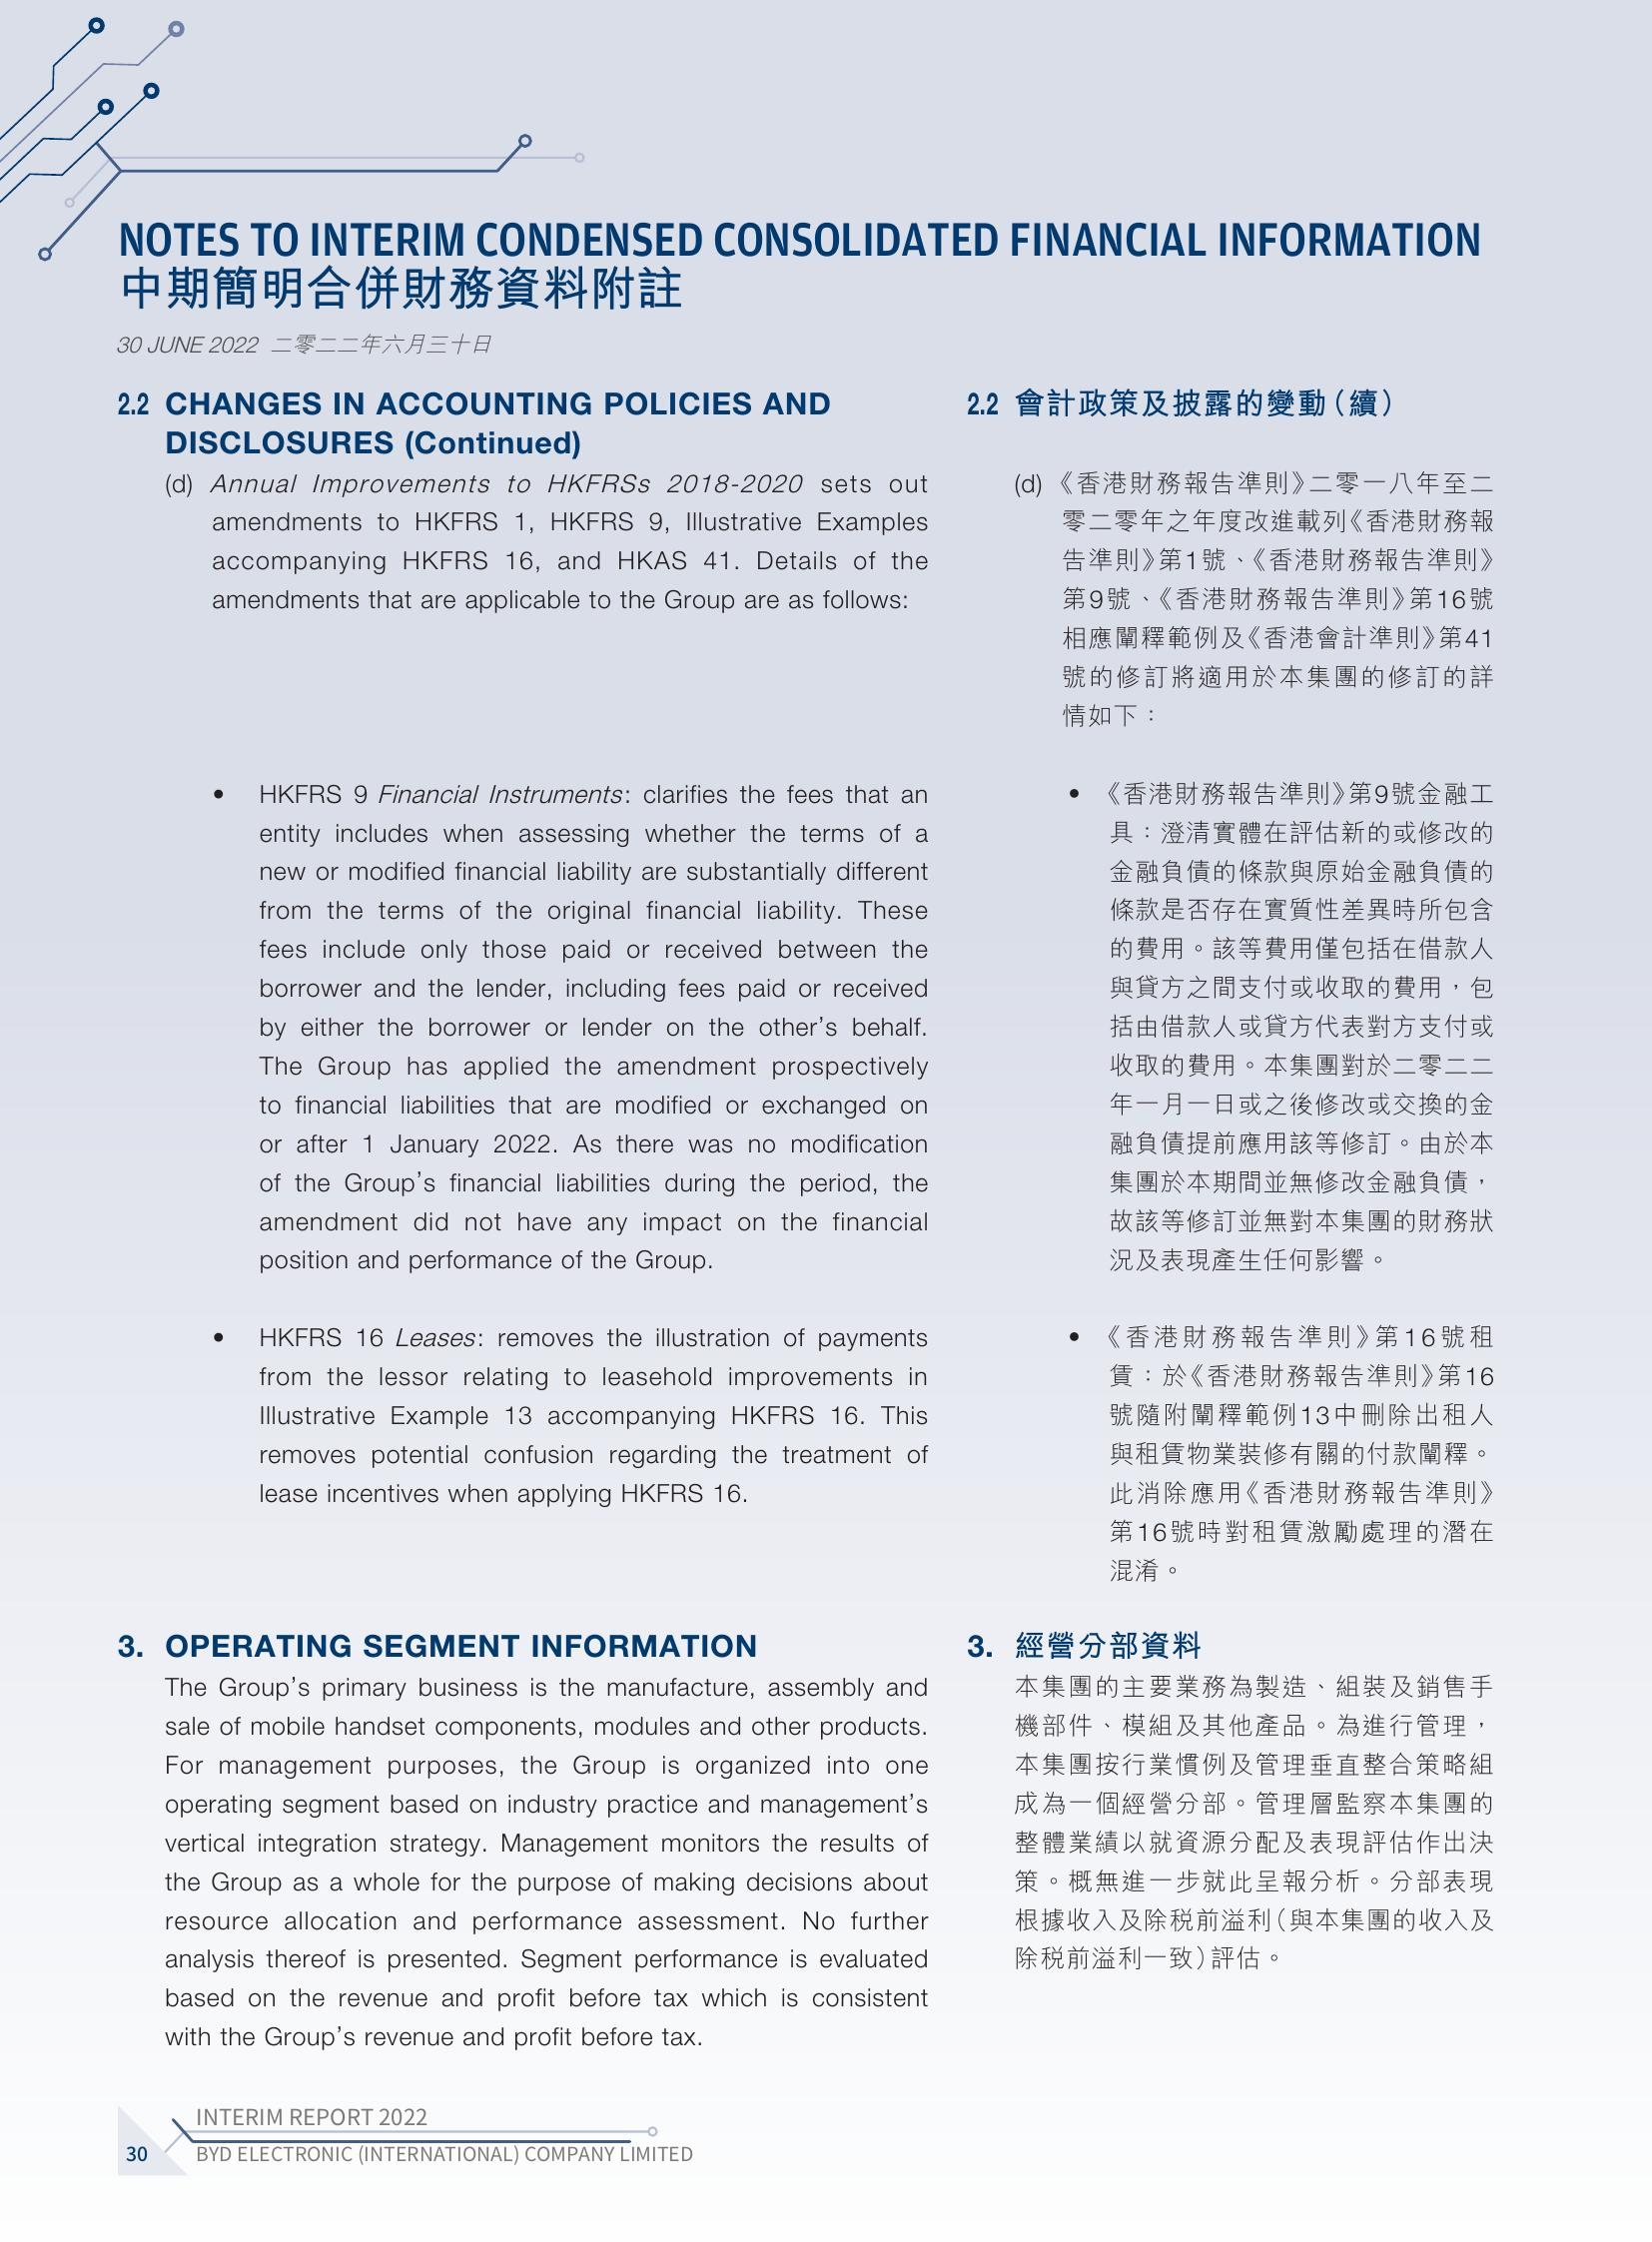Footer: (0, 2084, 1652, 2242)
Header: (0, 0, 1652, 193)
